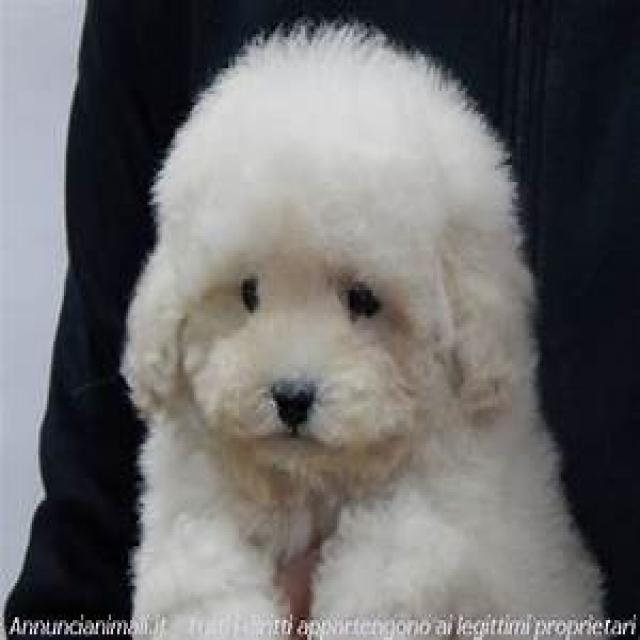animal: (59, 18, 581, 640)
